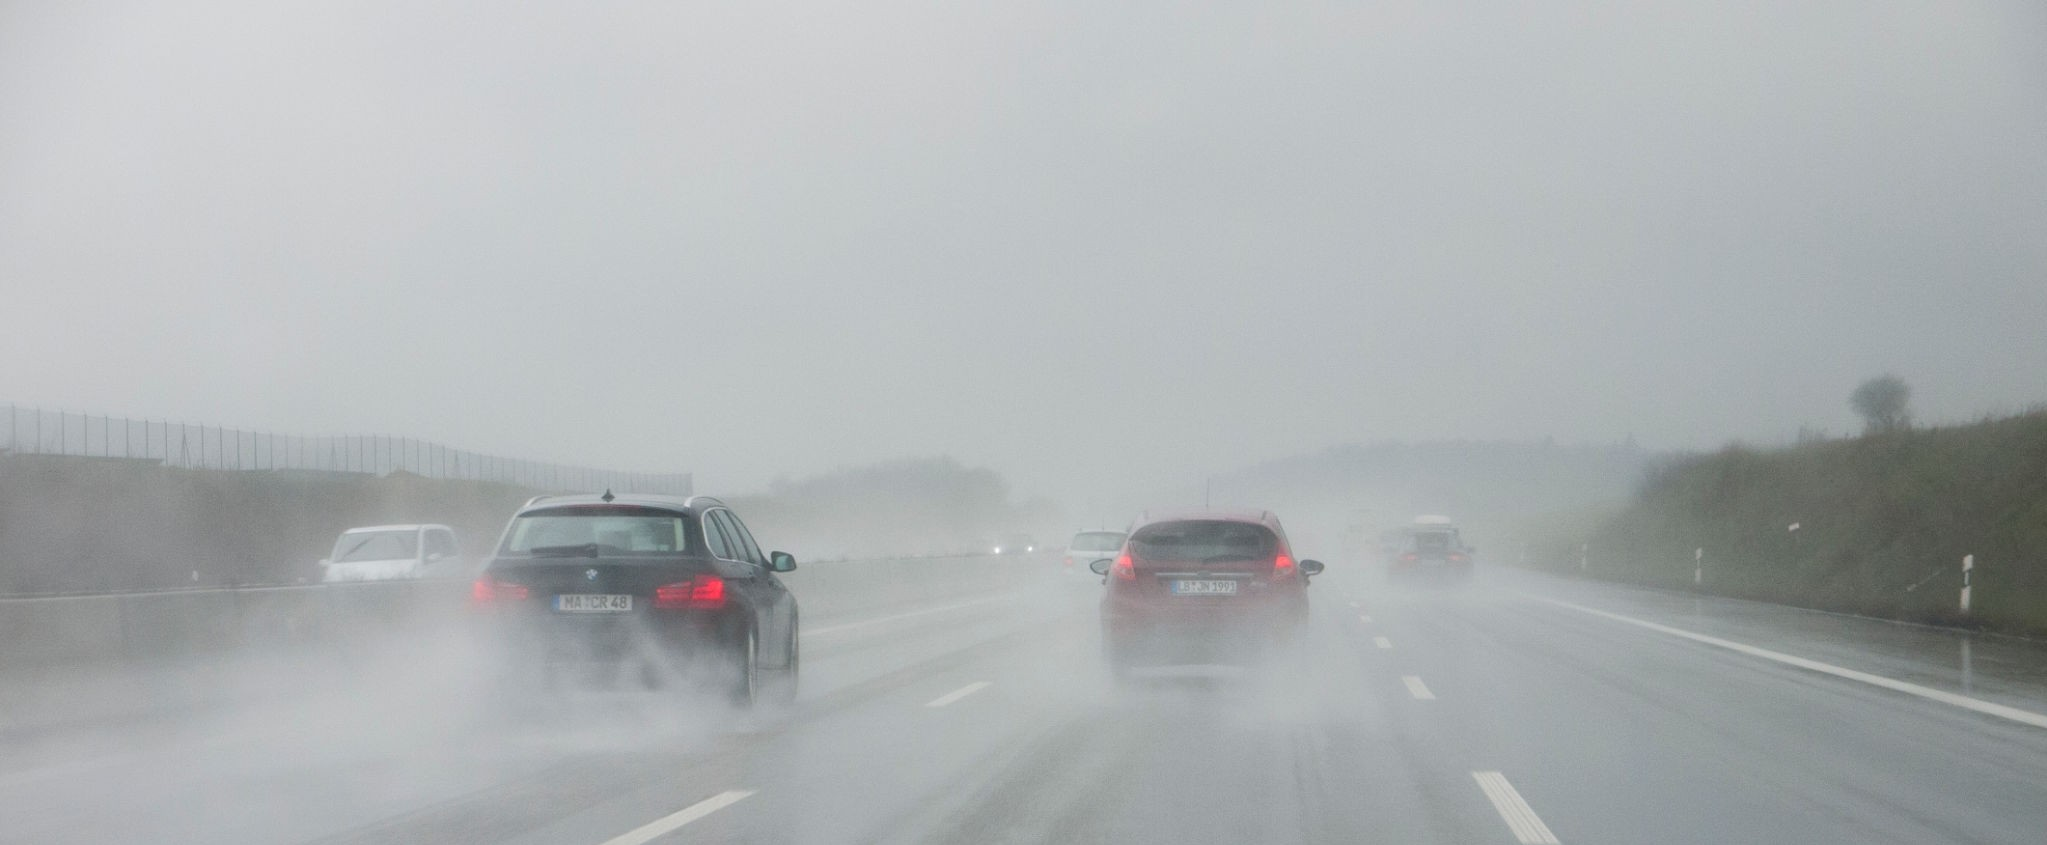car: (448, 491, 811, 720), (1090, 509, 1328, 679), (319, 522, 461, 584), (1386, 532, 1478, 597), (1061, 530, 1129, 579), (986, 532, 1040, 554)
